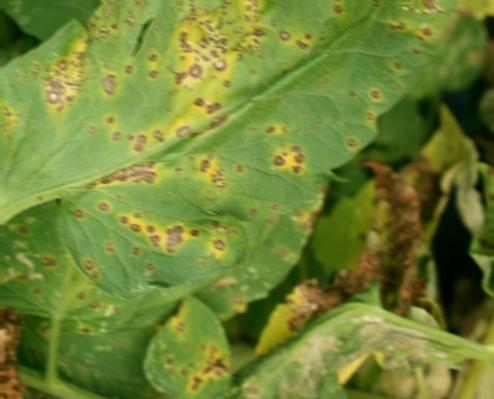Tomato Septoria leaf spot: (0, 0, 494, 289)
